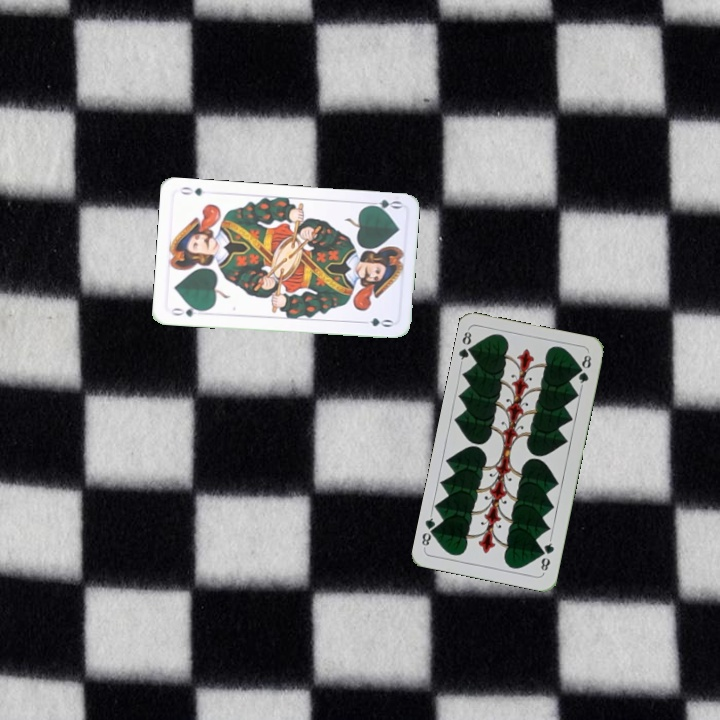G8: (455, 326, 477, 366), (537, 535, 557, 575)
GO: (363, 195, 404, 214), (167, 302, 207, 319)
